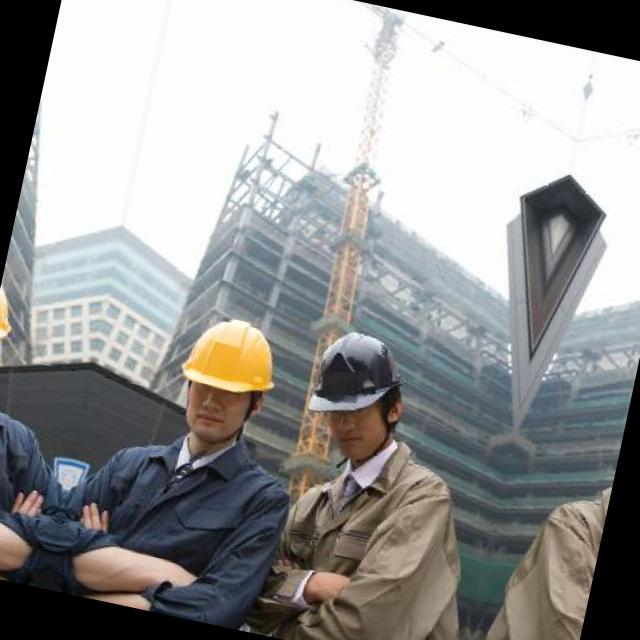helmet: (145, 290, 296, 468), (288, 312, 422, 468), (0, 253, 45, 416)
